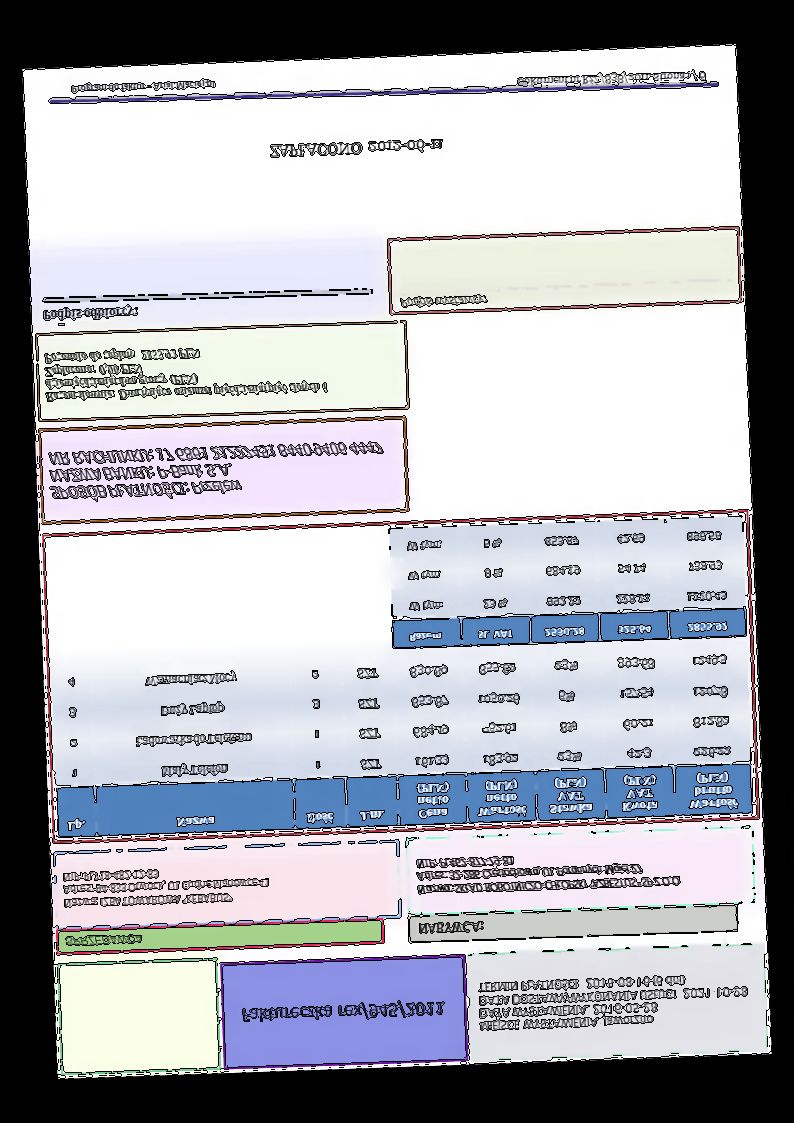Table: (50, 639, 753, 840), (388, 514, 748, 650)
TextBox: (47, 436, 386, 502), (41, 341, 329, 405), (476, 969, 751, 1034), (413, 847, 682, 897), (59, 864, 272, 911), (238, 996, 445, 1026), (515, 66, 708, 90), (265, 136, 445, 159), (69, 78, 217, 96), (40, 303, 141, 323), (398, 291, 487, 311), (62, 931, 147, 950), (416, 918, 485, 938)
